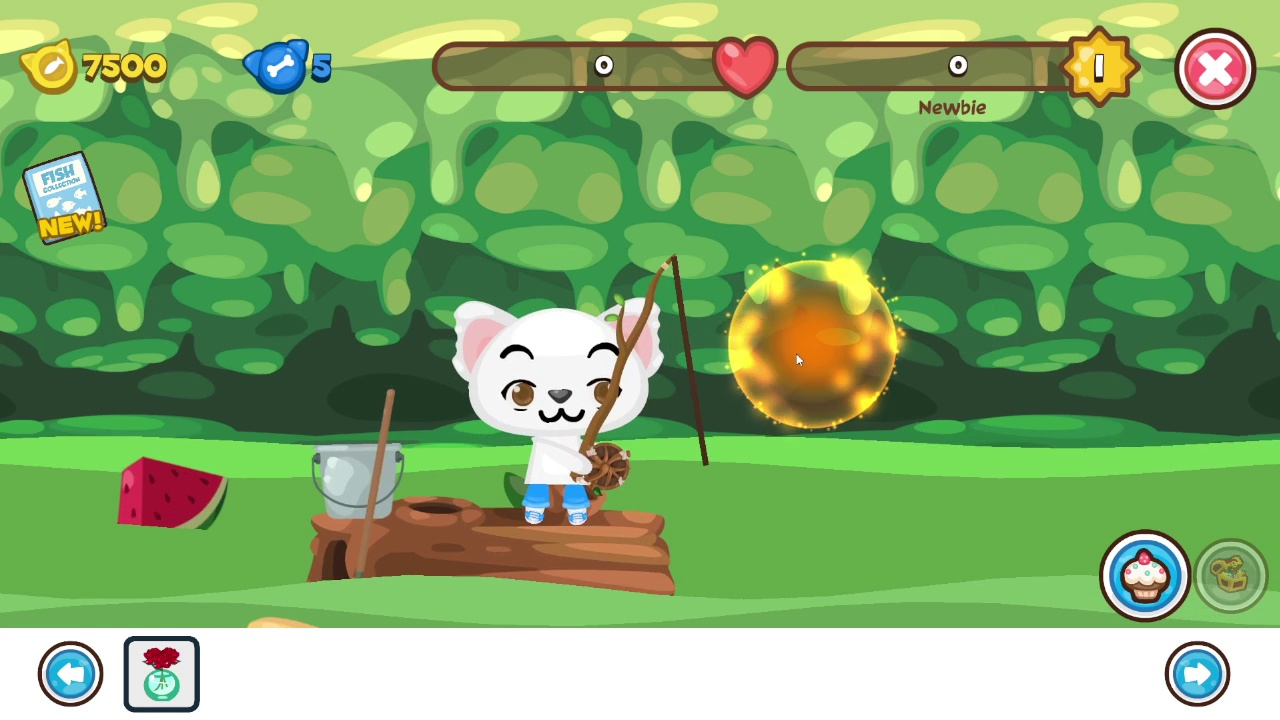point: (728, 260, 897, 428)
